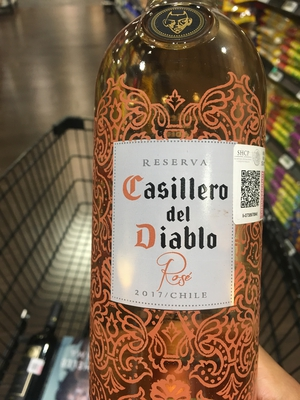casillero del diablo rose: (84, 22, 270, 400)
